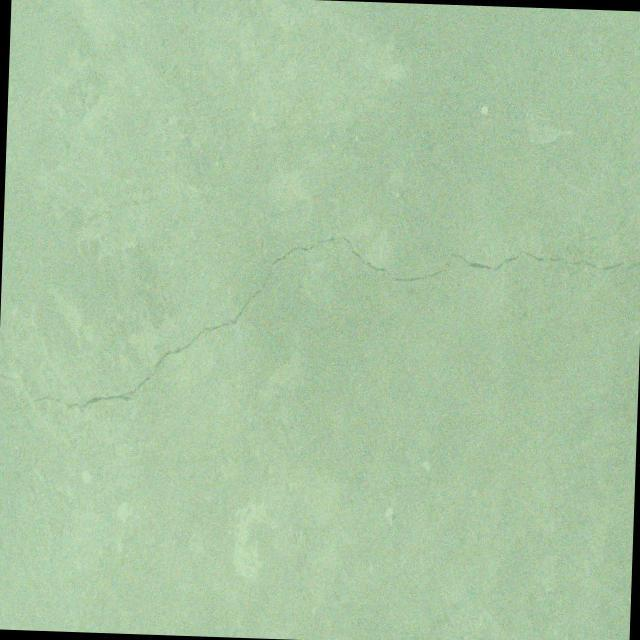crack: (0, 209, 640, 436), (0, 374, 26, 391)
